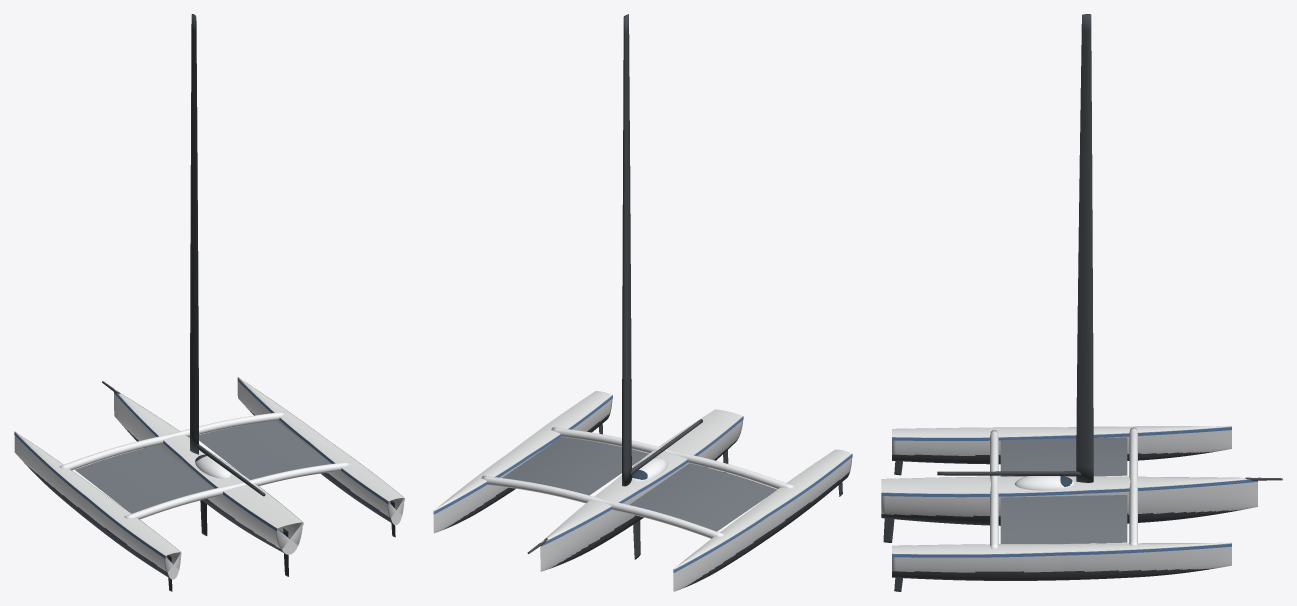
Rendered from elf_aquitaine_iii.glb.
3 views of the same model, side by side, from view 1: azimuth 30°, elevation 25°; view 2: azimuth 150°, elevation 25°; view 3: azimuth 270°, elevation 25° (orthographic). The views are drawn at different scales.
Parts seen in each view (by area): view 1: filet, filet.001, pivot_mat, centrale_pont, centrale_coque, flotteur_coque, flotteur_pont, flotteur_pont.001, flotteur_coque.001, bras, bras.001, flotteur_fond (+2 smaller); view 2: filet, filet.001, pivot_mat, centrale_pont, centrale_coque, flotteur_coque, flotteur_pont, flotteur_pont.001, bras, flotteur_coque.001, bras.001, flotteur_fond (+4 smaller); view 3: pivot_mat, flotteur_coque.001, centrale_coque, filet.001, flotteur_coque, filet, centrale_pont, flotteur_pont.001, flotteur_fond.001, flotteur_pont, centrale_fond, centrale_bande (+7 smaller).
Part boxes in pixels (x1,y1,x2,y2): filet: [75, 445, 212, 513]; filet.001: [199, 420, 331, 479]; pivot_mat: [190, 14, 198, 454]; centrale_pont: [114, 389, 302, 528]; centrale_coque: [114, 393, 302, 554]; flotteur_coque: [14, 432, 181, 579]; flotteur_pont: [14, 431, 180, 555]; flotteur_pont.001: [237, 377, 403, 501]; flotteur_coque.001: [237, 378, 404, 525]; bras: [59, 411, 285, 470]; bras.001: [124, 462, 350, 519]; flotteur_fond: [24, 463, 169, 578]; filet: [629, 463, 777, 531]; filet.001: [502, 437, 648, 495]; pivot_mat: [622, 14, 631, 486]; centrale_pont: [541, 409, 742, 542]; centrale_coque: [540, 409, 743, 571]; flotteur_coque: [673, 449, 852, 591]; flotteur_pont: [673, 449, 851, 569]; flotteur_pont.001: [433, 391, 611, 510]; bras: [481, 475, 724, 538]; flotteur_coque.001: [433, 391, 612, 533]; bras.001: [551, 427, 794, 488]; flotteur_fond: [684, 472, 849, 587]; pivot_mat: [1076, 14, 1093, 482]; flotteur_coque.001: [892, 543, 1231, 572]; centrale_coque: [881, 476, 1257, 516]; filet.001: [1000, 495, 1127, 543]; flotteur_coque: [892, 426, 1231, 455]; filet: [1000, 437, 1127, 476]; centrale_pont: [881, 476, 1257, 493]; flotteur_pont.001: [892, 542, 1231, 554]; flotteur_fond.001: [892, 568, 1213, 580]; flotteur_pont: [892, 425, 1231, 437]; centrale_fond: [881, 510, 1240, 525]; centrale_bande: [881, 479, 1257, 497].
Size of the model in its own units: 25.47 by 51.43 by 34.1.
